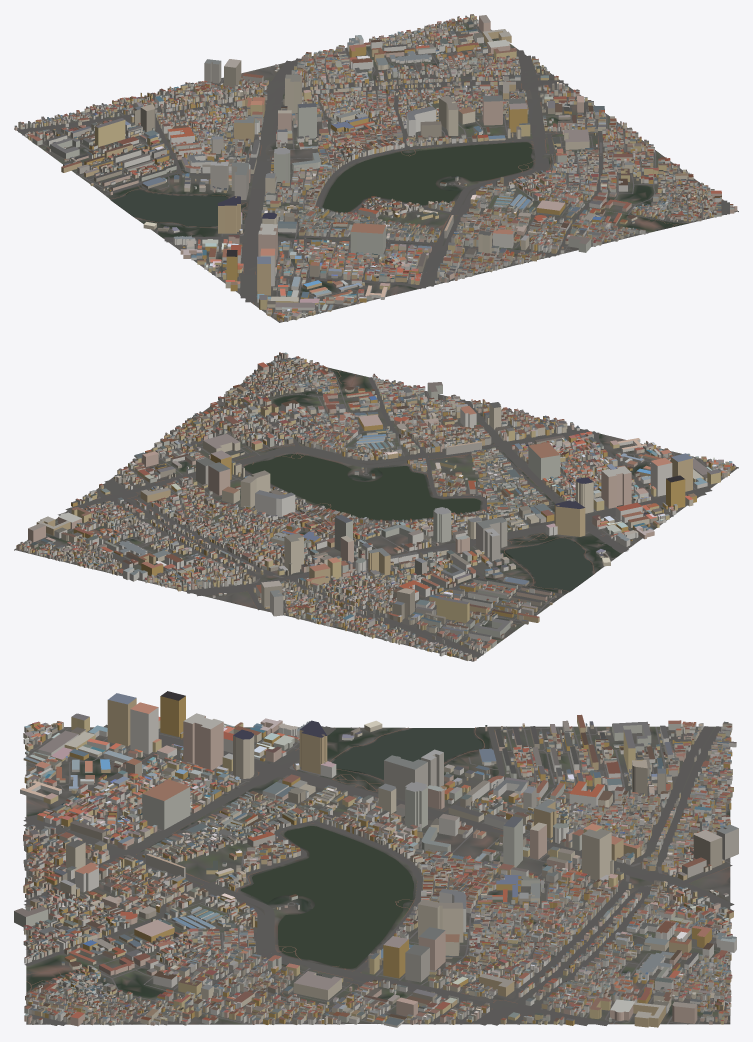
3 renders of one model, top to bottom at view 1: azimuth 30°, elevation 25°; view 2: azimuth 150°, elevation 25°; view 3: azimuth 270°, elevation 25°, orthographic. The views are drawn at different scales.
Visible parts, largest first — view 1: buildings, ground, roads, water; view 2: buildings, ground, roads, water; view 3: buildings, ground, roads, water.
Part boxes in pixels (x1,y1,x2,y2): buildings: (14, 14, 737, 321); ground: (14, 18, 738, 322); roads: (17, 17, 729, 319); water: (111, 57, 533, 226); buildings: (16, 352, 735, 661); ground: (14, 358, 738, 661); roads: (18, 357, 732, 660); water: (96, 452, 592, 591); buildings: (14, 691, 738, 1027); ground: (26, 726, 730, 1024); roads: (23, 724, 734, 1025); water: (240, 728, 612, 997).
Size of the model in its own units: 1443 by 97.57 by 1443.
